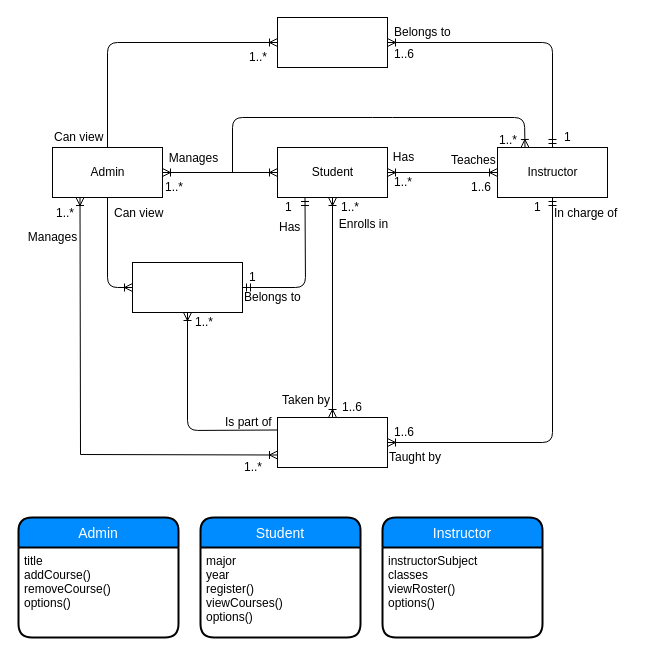
The diagram is 649 pixels wide and 656 high, and some of its shapes have lost their labels. Here are the shapes that lost their labels. From the top down, the box of each, then its label:
(276, 16, 388, 68): Roster
(132, 262, 242, 312): Schedule
(276, 416, 388, 468): Course
